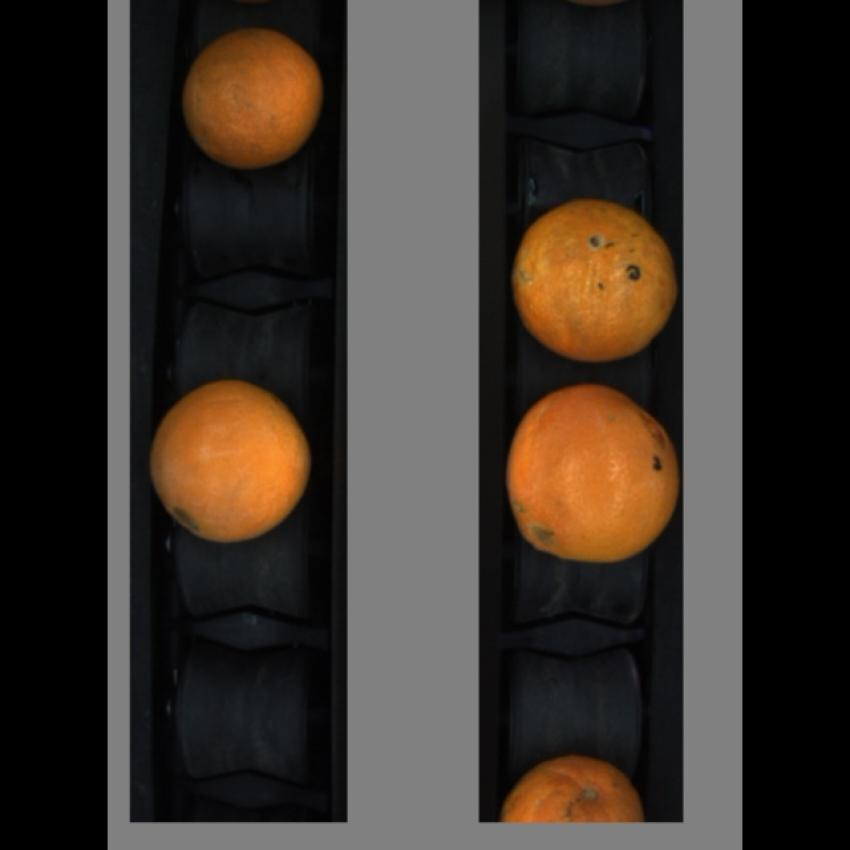Mal estado: (496, 376, 681, 572), (506, 188, 678, 367), (146, 375, 315, 553), (172, 22, 334, 174), (495, 746, 651, 821)
